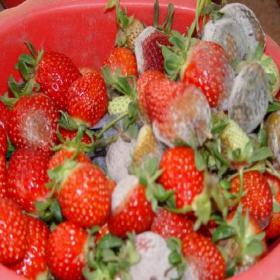Gray Mold: (145, 77, 212, 149), (179, 38, 236, 112), (117, 234, 199, 279), (6, 92, 59, 156), (226, 62, 271, 135), (217, 3, 268, 64), (107, 176, 155, 239), (134, 26, 186, 78), (203, 17, 247, 74), (105, 134, 135, 185)
